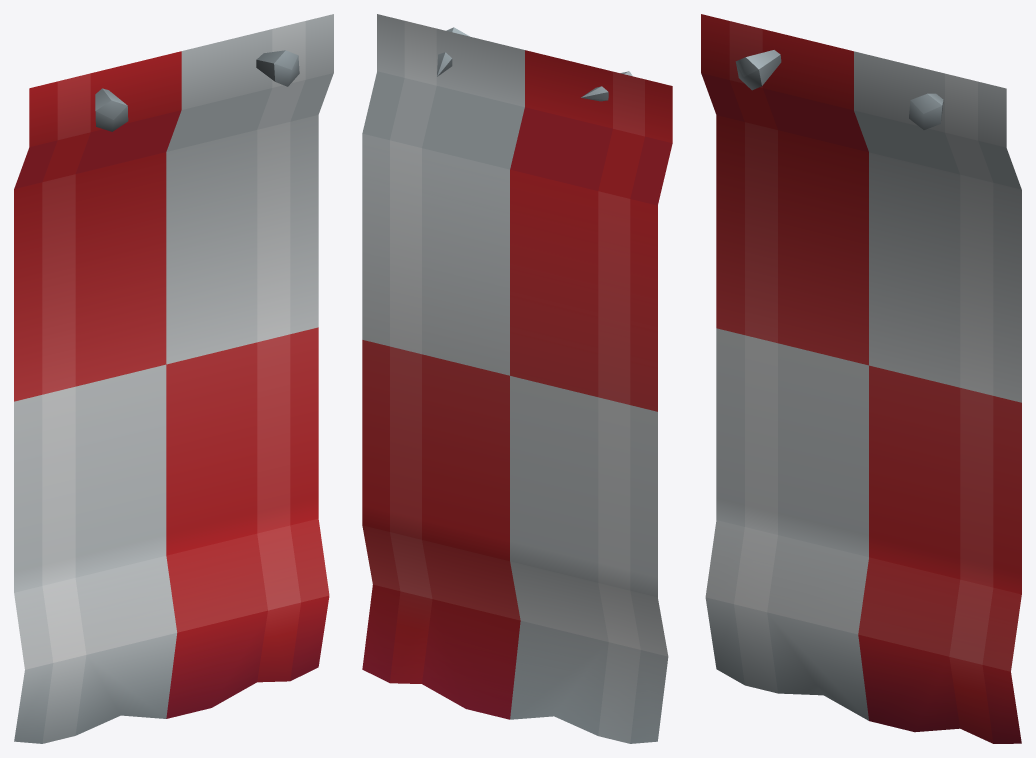
File: banner_patternA_red.gltf
3 renders of one model, left to right at view 1: azimuth 30°, elevation 25°; view 2: azimuth 150°, elevation 25°; view 3: azimuth 330°, elevation 25°, orthographic. The views are drawn at different scales.
Visible parts, largest first — view 1: banner_patternA_red; view 2: banner_patternA_red; view 3: banner_patternA_red.
Part boxes in pixels (<box>): banner_patternA_red: <box>14,14,333,743</box>; banner_patternA_red: <box>362,14,672,743</box>; banner_patternA_red: <box>701,14,1021,743</box>.
Size of the model in its own units: 1.5 by 3.2 by 0.3119.
1 material, 1 textured.
